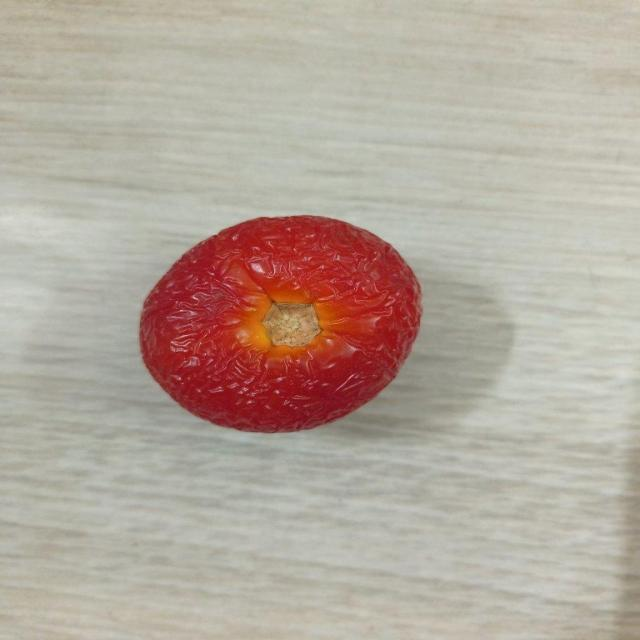overripe: (136, 208, 425, 436)
